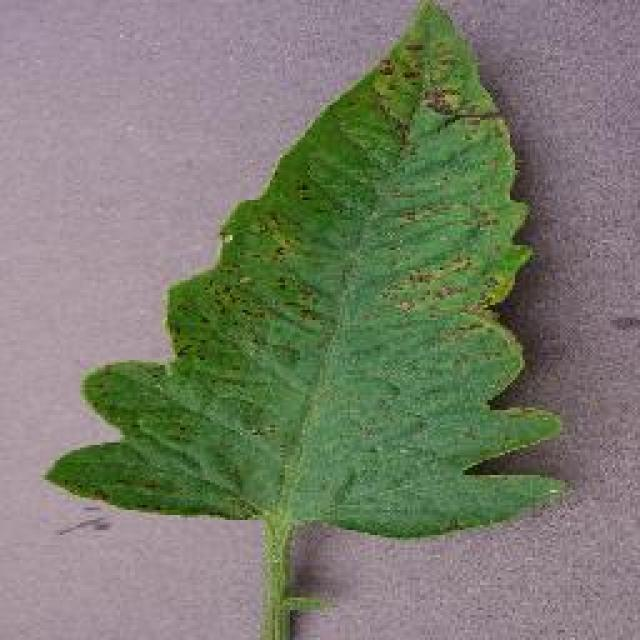Tomato Septoria spot leaf: (46, 3, 574, 540)
